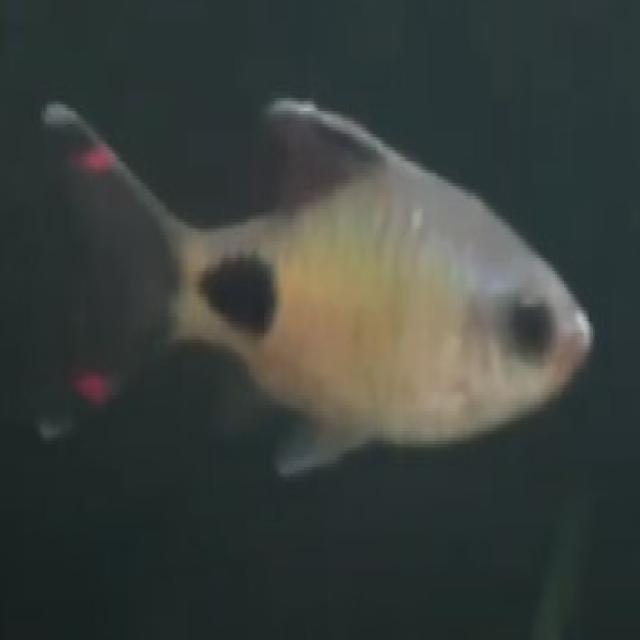Black-Spotted-Barb: (40, 70, 607, 500)
